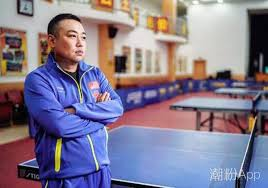person: (23, 14, 124, 188)
